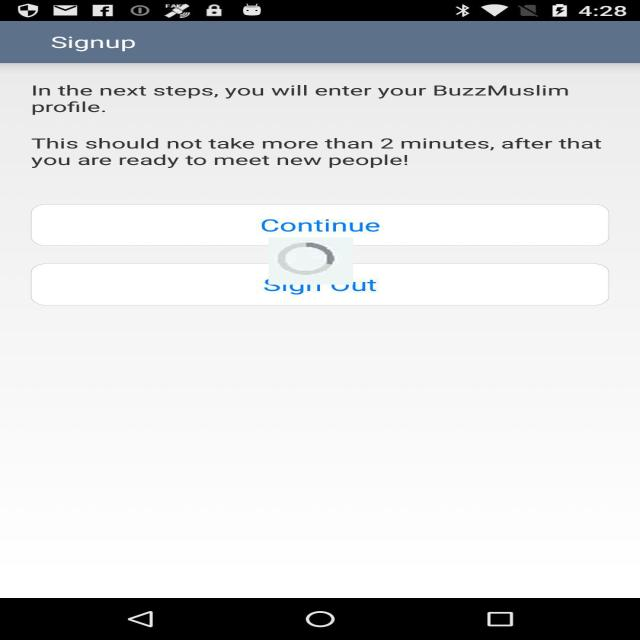misdirection: (269, 237, 353, 285)
